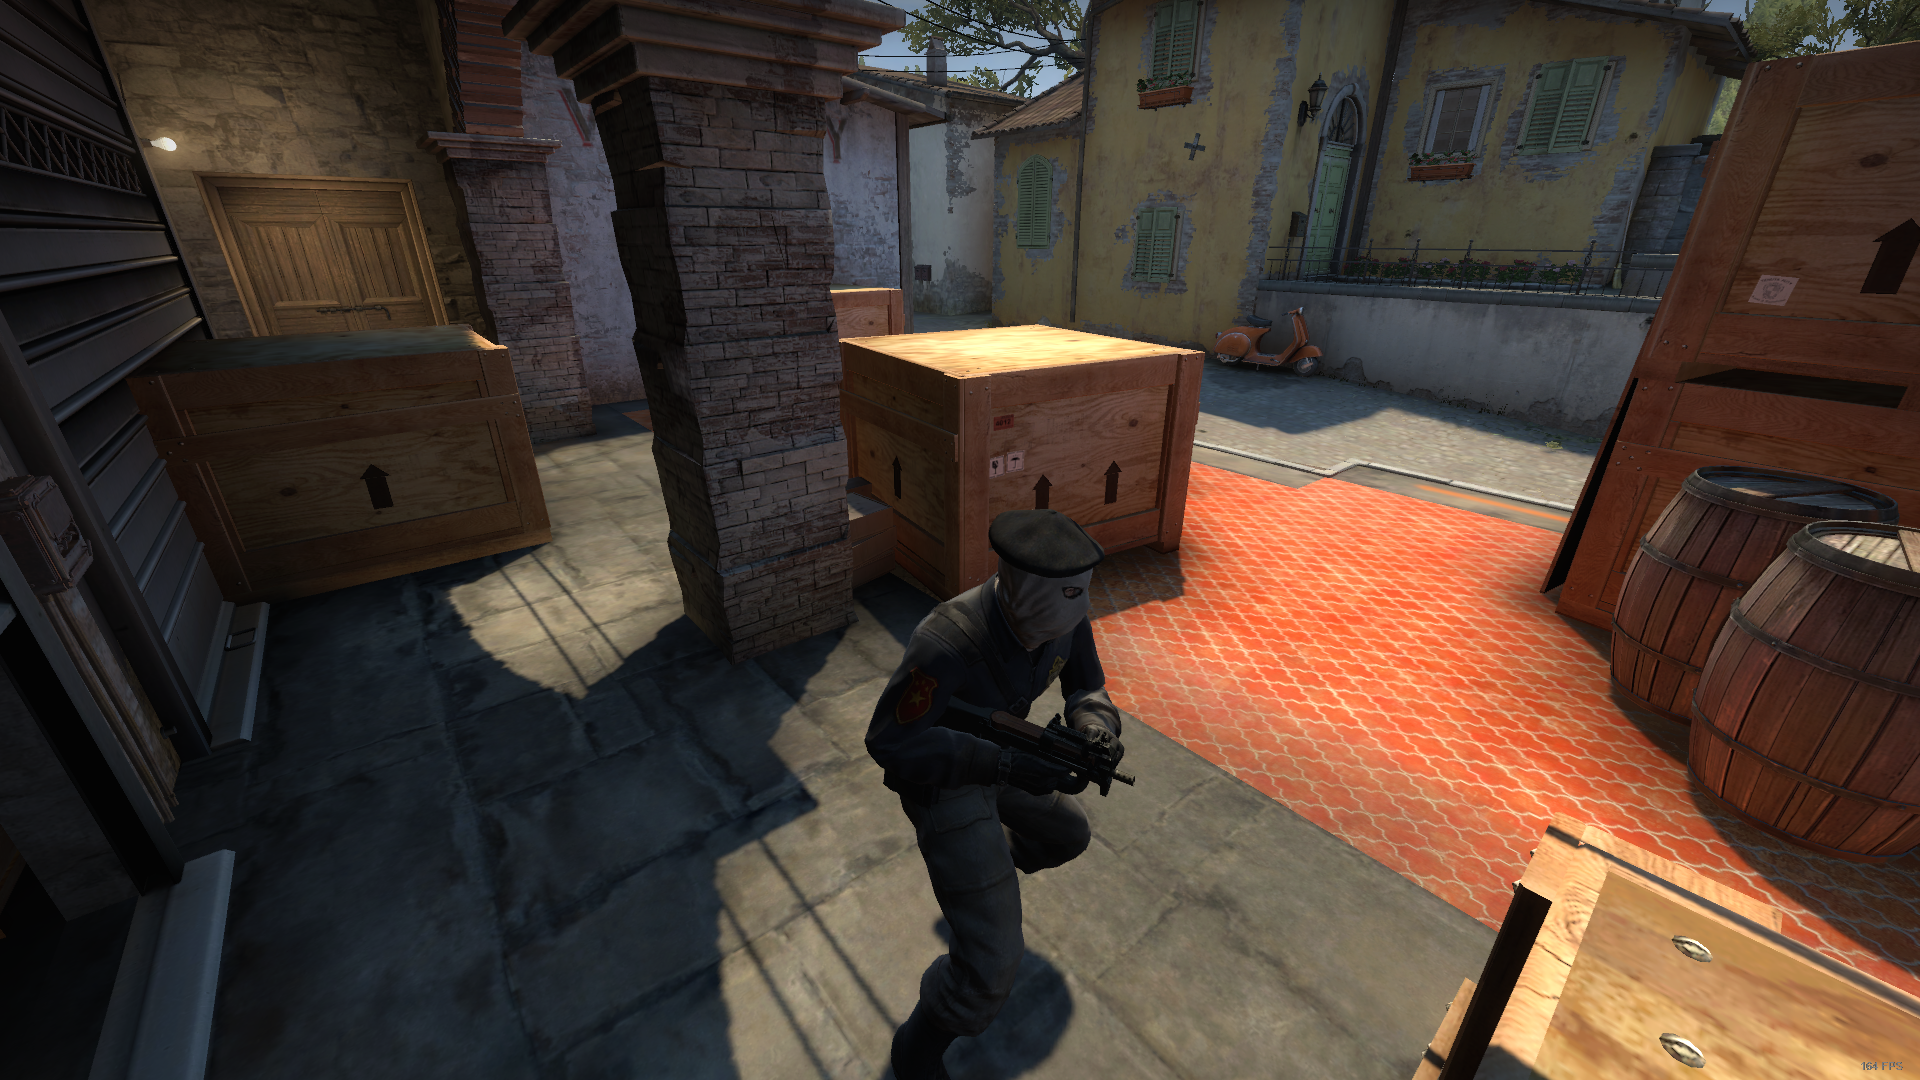t: (847, 516, 1171, 1080)
